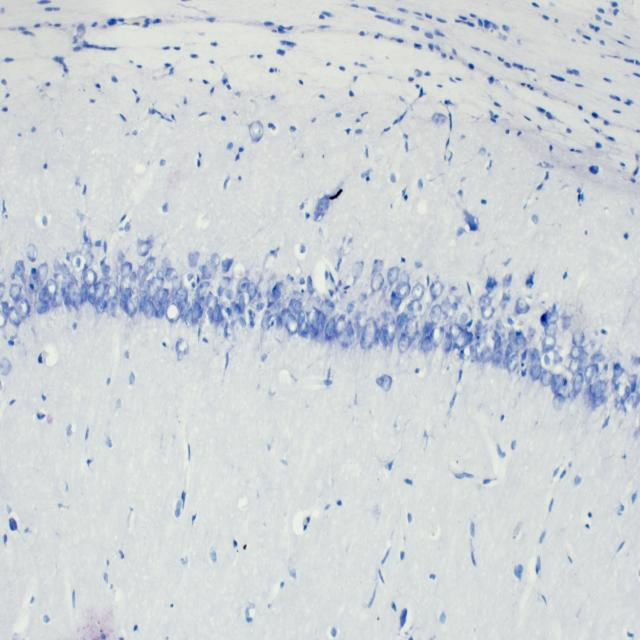neuron: (377, 310, 396, 348), (360, 317, 377, 350), (67, 281, 83, 311), (307, 306, 319, 340), (123, 291, 138, 318), (93, 280, 106, 308), (385, 280, 399, 305), (438, 297, 451, 323), (166, 298, 180, 322), (342, 320, 354, 348), (452, 330, 468, 350), (314, 310, 326, 336), (212, 303, 225, 326), (430, 326, 444, 347), (530, 357, 542, 381), (119, 274, 132, 296), (152, 296, 165, 318), (8, 306, 22, 326), (233, 261, 247, 281), (404, 318, 418, 338), (54, 270, 66, 293), (119, 286, 131, 309), (18, 298, 31, 319), (321, 299, 335, 318), (551, 374, 563, 396), (612, 362, 624, 384), (105, 296, 118, 316), (175, 288, 188, 308), (351, 260, 364, 280), (8, 284, 24, 300), (136, 240, 152, 256), (573, 373, 584, 396), (37, 262, 49, 283), (82, 251, 94, 272), (83, 268, 97, 286), (203, 261, 217, 279), (206, 290, 218, 311), (430, 280, 444, 298), (459, 343, 473, 361), (476, 337, 486, 362), (335, 315, 348, 334), (387, 266, 400, 285), (572, 328, 585, 347), (46, 277, 56, 301), (106, 280, 118, 300), (143, 299, 155, 319), (266, 314, 282, 329), (325, 317, 335, 341), (398, 334, 410, 354), (515, 298, 530, 314), (507, 354, 519, 374), (584, 364, 596, 384), (34, 300, 51, 314), (196, 281, 210, 298), (542, 336, 556, 353), (280, 308, 293, 326), (412, 282, 425, 300), (261, 310, 272, 331), (0, 357, 12, 376), (192, 301, 204, 320), (481, 304, 495, 320), (120, 261, 133, 278), (371, 274, 384, 291), (409, 300, 422, 317), (589, 379, 602, 396), (180, 300, 190, 322), (286, 316, 298, 334), (449, 322, 461, 340), (481, 346, 493, 364), (552, 394, 564, 412), (172, 272, 182, 293), (512, 335, 526, 350), (568, 358, 582, 373), (161, 255, 172, 274), (430, 304, 441, 323), (176, 338, 189, 354), (289, 298, 302, 314), (396, 272, 409, 288), (479, 293, 492, 309), (540, 370, 553, 386), (152, 275, 164, 292), (421, 335, 433, 352), (184, 307, 194, 327), (27, 244, 38, 262), (87, 282, 96, 304), (144, 255, 155, 273), (222, 256, 233, 274), (619, 386, 630, 404), (292, 289, 306, 303), (165, 266, 178, 281), (187, 251, 200, 266), (237, 278, 250, 293), (545, 322, 558, 337), (99, 262, 111, 278), (158, 288, 170, 304), (229, 304, 239, 323), (271, 283, 281, 302), (570, 345, 583, 359), (79, 283, 88, 303), (371, 259, 383, 274), (398, 284, 410, 299), (547, 310, 559, 325), (578, 351, 588, 369), (357, 311, 368, 327), (397, 312, 408, 328), (247, 282, 256, 301), (96, 297, 106, 314), (225, 324, 235, 341), (496, 319, 506, 336), (594, 389, 604, 406), (15, 260, 24, 278), (30, 276, 40, 292), (53, 291, 63, 307), (139, 271, 149, 287), (298, 321, 308, 337), (306, 275, 314, 295), (444, 332, 452, 352), (474, 319, 482, 339), (552, 351, 564, 364), (82, 240, 93, 254), (561, 316, 572, 330), (470, 345, 479, 362), (628, 374, 637, 391), (140, 294, 148, 313), (391, 296, 401, 311), (502, 273, 512, 288), (116, 248, 125, 264), (297, 311, 305, 329), (613, 392, 621, 410), (0, 309, 7, 329), (220, 276, 230, 290), (2, 299, 10, 316), (530, 348, 539, 363), (238, 294, 244, 316), (212, 252, 220, 268), (60, 263, 70, 275), (346, 302, 356, 314), (492, 350, 502, 362), (595, 350, 605, 362), (505, 343, 512, 360), (493, 336, 501, 350), (527, 326, 535, 340), (129, 272, 138, 284), (224, 288, 233, 300), (459, 312, 468, 324), (207, 308, 214, 323), (39, 287, 47, 300), (138, 264, 144, 281), (422, 322, 431, 333), (0, 282, 6, 298), (239, 316, 247, 328), (568, 390, 576, 402), (156, 270, 165, 280), (255, 302, 265, 310), (217, 284, 223, 297), (248, 311, 254, 324), (468, 332, 473, 344)
